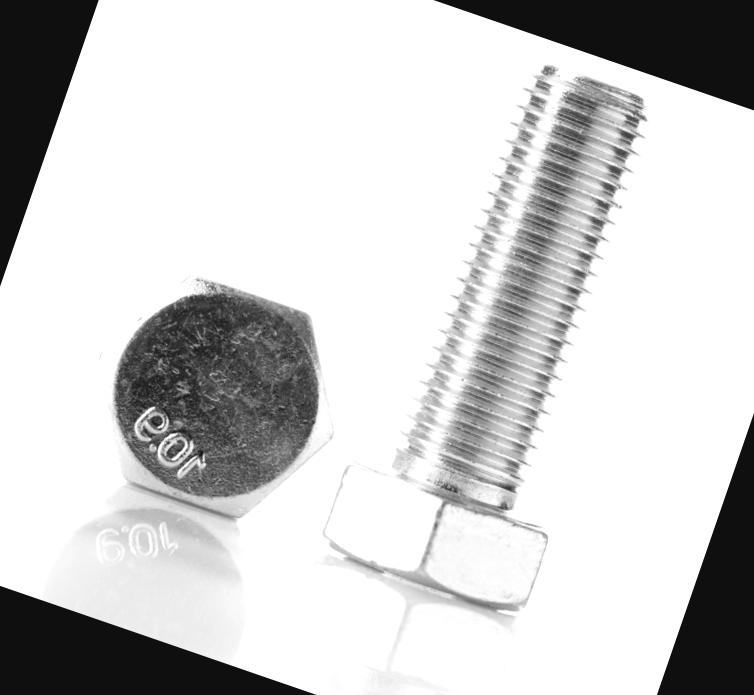screw: (64, 248, 369, 540)
